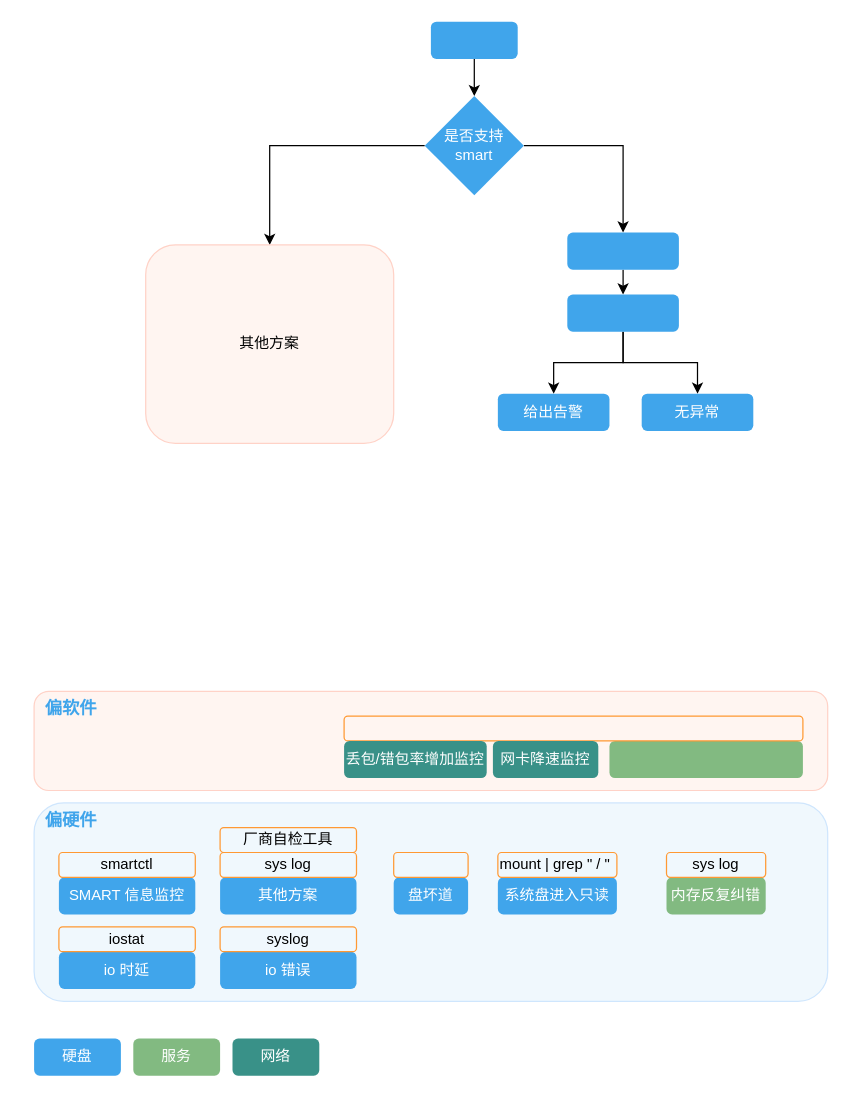
Some shapes in this 849 by 1096 pixel diagram are drawn without their labels. The shapes that lost their labels are listed below. From the top down, each one's centre as x and y in pixels, then its label:
At point (473, 39): "磁盘".
At point (622, 250): "获取 smart 信息".
At point (622, 312): "分析指标".
At point (573, 728): "prometheus".
At point (705, 758): "进程/服务访问时延异常监控".
At point (430, 864): "badblocks".
